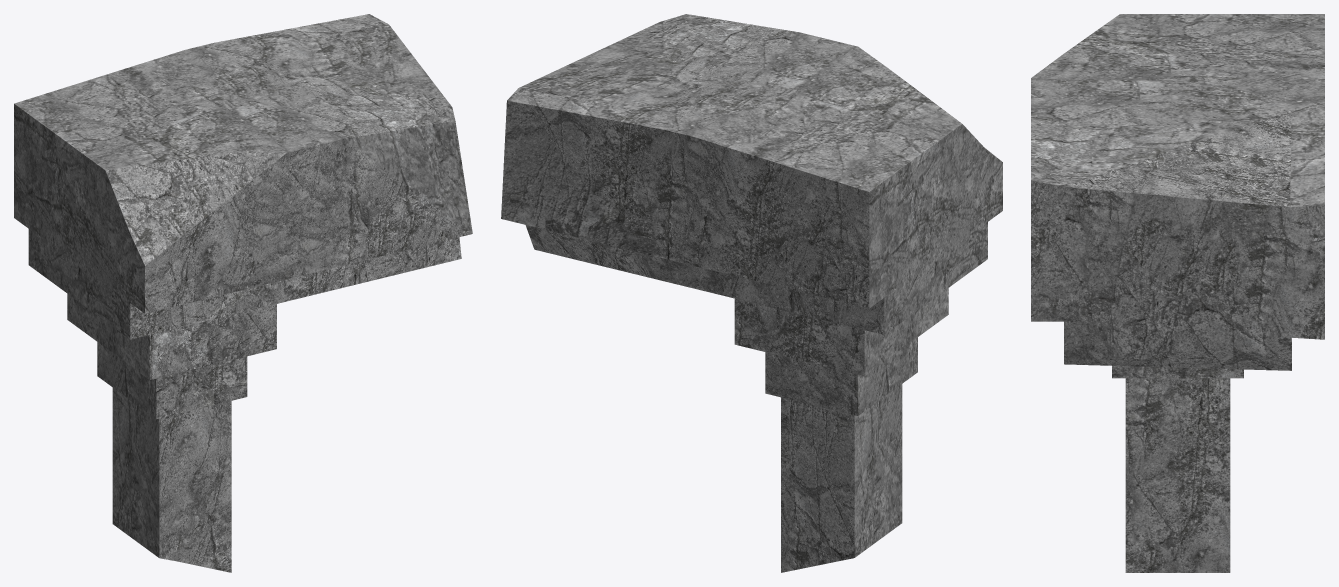
The model's file is materials_3_rubble_22.fbx.
3 views of the same model, side by side, from view 1: azimuth 30°, elevation 25°; view 2: azimuth 150°, elevation 25°; view 3: azimuth 270°, elevation 25° (orthographic). The views are drawn at different scales.
Visible parts, largest first — view 1: materials_3_rubble_22; view 2: materials_3_rubble_22; view 3: materials_3_rubble_22.
Boxes of the visible parts, box(x1,y1,x2,y2) form: materials_3_rubble_22: box(14, 14, 472, 572); materials_3_rubble_22: box(501, 14, 1002, 572); materials_3_rubble_22: box(1031, 14, 1324, 572).
Bounding box in the file's own units: 122 × 145 × 76.69.
